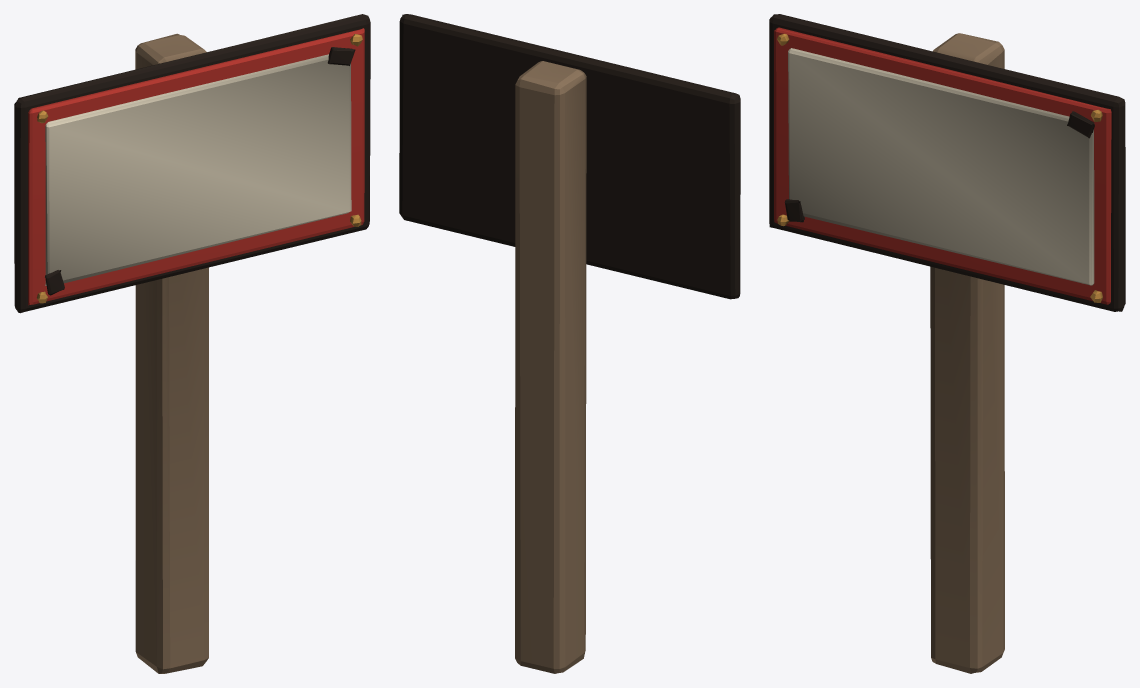
File: shaft_sign.glb
3 views of the same model, side by side, from view 1: azimuth 30°, elevation 25°; view 2: azimuth 150°, elevation 25°; view 3: azimuth 330°, elevation 25° (orthographic). The views are drawn at different scales.
Visible parts, largest first — view 1: ShaftSign; view 2: ShaftSign; view 3: ShaftSign.
Part boxes in pixels (x1=…): ShaftSign: x1=14, y1=14, x2=370, y2=673; ShaftSign: x1=399, y1=14, x2=740, y2=673; ShaftSign: x1=769, y1=14, x2=1125, y2=673.
Size of the model in its own units: 0.9034 by 1.51 by 0.1991.
